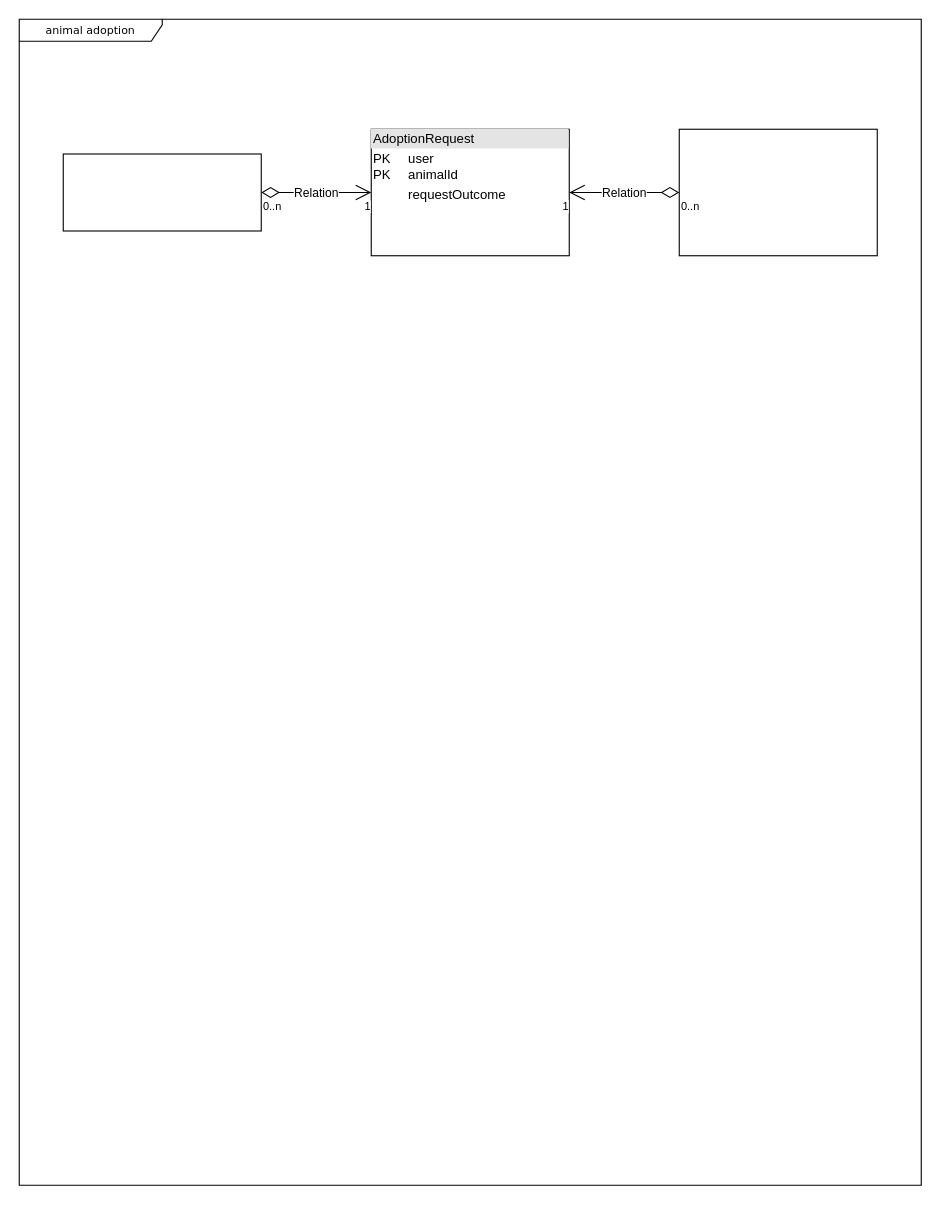
This 941x1205 diagram has some shape labels left out. Here are the shapes that lost their labels. From the top down, the box of each, then its label:
(62, 153, 261, 231): User PK username passwordHash publicUser
(678, 128, 877, 256): Animal PK animalId name description DOB picture adoptedBy
